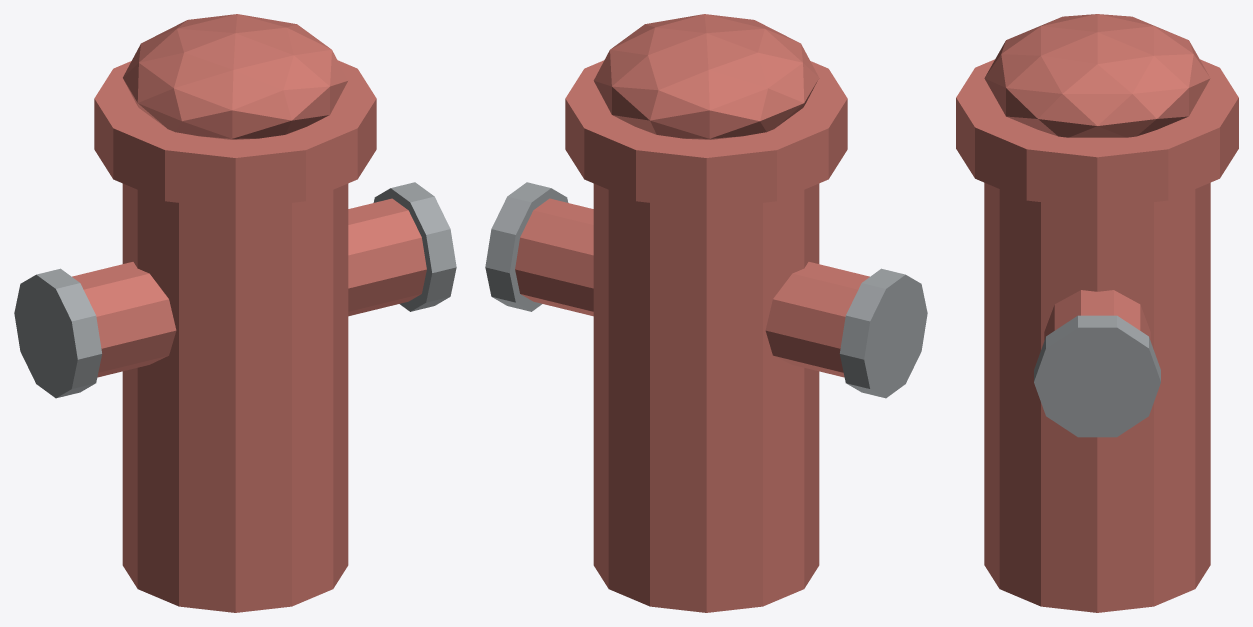
The model's file is hydrant_04.glb.
3 renders of one model, left to right at view 1: azimuth 30°, elevation 25°; view 2: azimuth 150°, elevation 25°; view 3: azimuth 270°, elevation 25°, orthographic.
Visible parts, largest first — view 1: body, top, dome, cap-1, arm-1, arm1, cap1; view 2: body, top, dome, cap-1, arm-1, arm1, cap1; view 3: body, top, dome, cap1, arm1.
Boxes of the visible parts, x1,y1,x2,y2 form: body: [122, 183, 348, 612]; top: [94, 60, 376, 209]; dome: [123, 14, 348, 139]; cap-1: [14, 268, 102, 398]; arm-1: [72, 262, 176, 377]; arm1: [348, 198, 426, 316]; cap1: [373, 182, 456, 311]; body: [593, 183, 819, 612]; top: [565, 60, 847, 209]; dome: [593, 14, 818, 139]; cap-1: [839, 268, 927, 398]; arm-1: [765, 262, 869, 377]; arm1: [515, 198, 593, 316]; cap1: [485, 182, 568, 311]; body: [984, 182, 1210, 612]; top: [956, 59, 1238, 208]; dome: [984, 14, 1210, 137]; cap1: [1034, 315, 1160, 437]; arm1: [1044, 290, 1150, 340].
Size of the model in its own units: 0.62 by 0.832 by 0.4.
